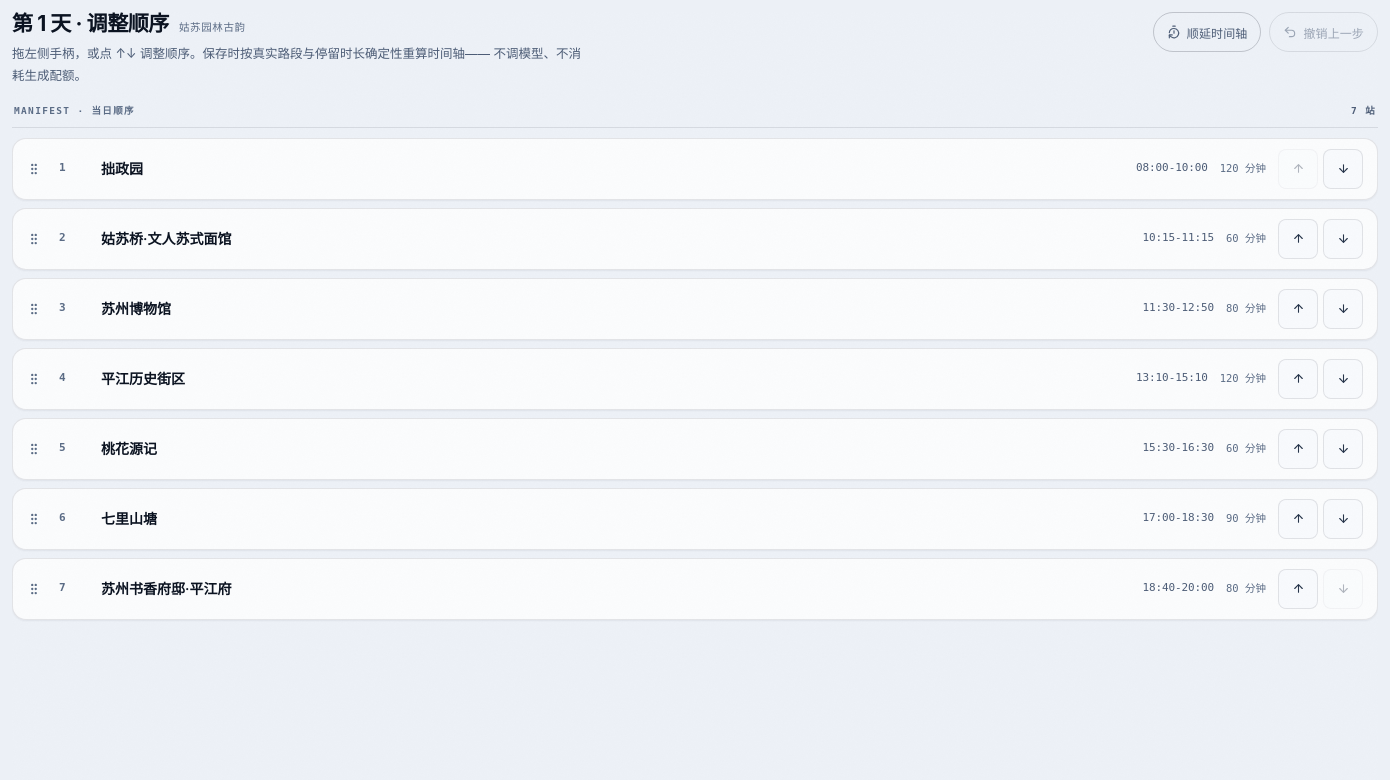
DayArrange 调整镜头 › 点「下移」：乐观换序 + 调 reorder，成功后回填 revision
Click the button named "下移 拙政园". click: (1343, 169)
box: [1323, 149, 1363, 189]
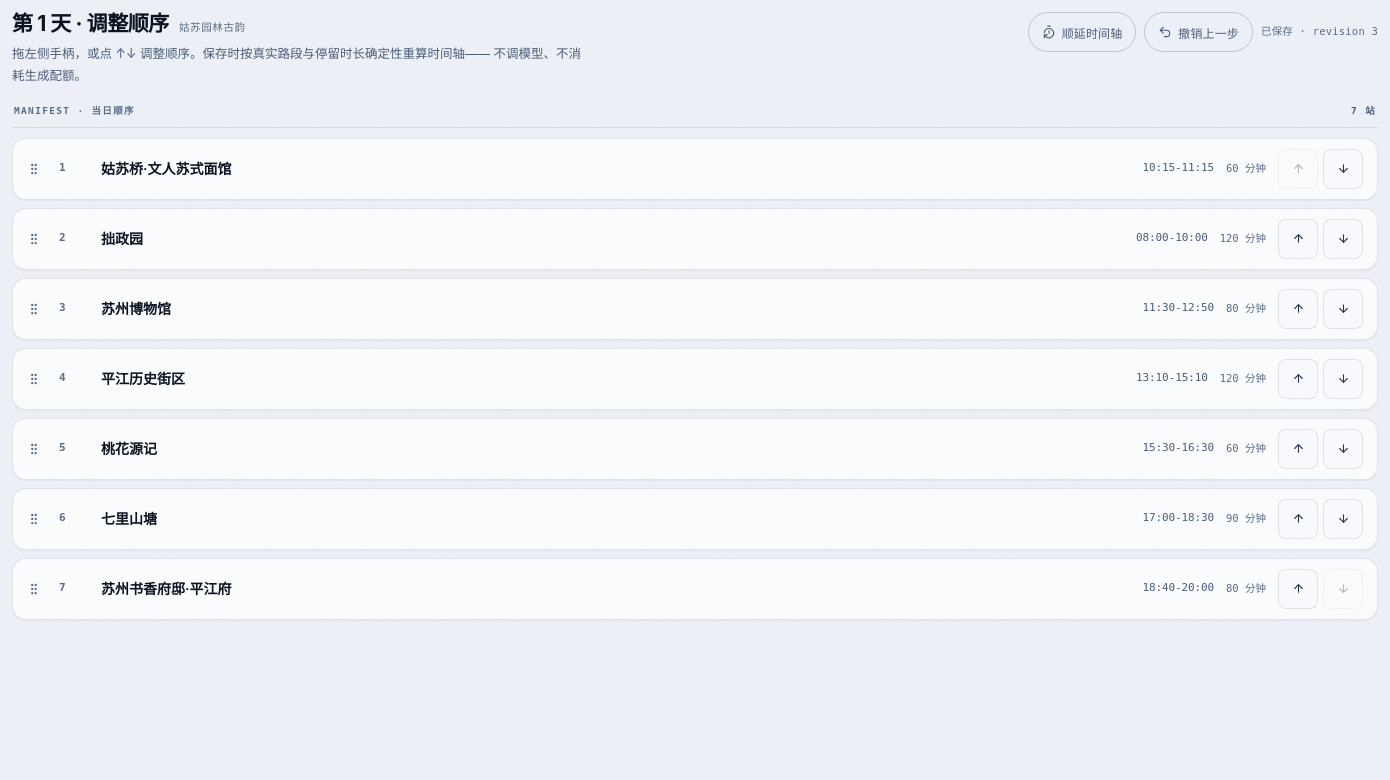
Expected: the list item "1 姑苏桥·文人苏式面馆 10:15-11:15 60 分钟" is shown, [12, 138, 1378, 200]
Now the text "已保存 · revision 3" is shown, box [1261, 23, 1378, 41]
